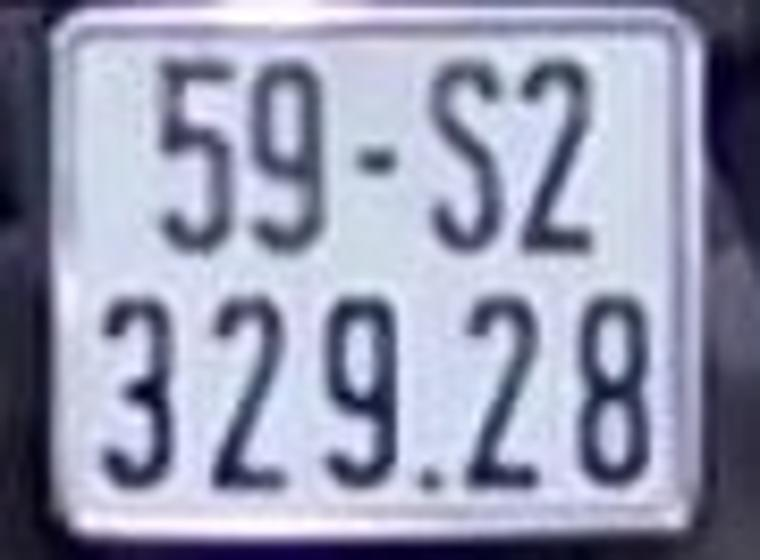-: (350, 145, 401, 176)
.: (418, 464, 448, 497)
2: (463, 286, 545, 495), (210, 292, 294, 491), (519, 51, 597, 260)
3: (96, 288, 181, 495)
5: (159, 58, 241, 256)
8: (579, 291, 654, 487)
9: (316, 290, 403, 487), (251, 57, 329, 255)
S: (420, 57, 510, 252)
